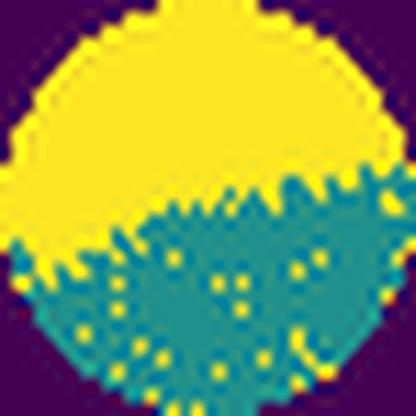Edge-Loc: (0, 0, 416, 296)
